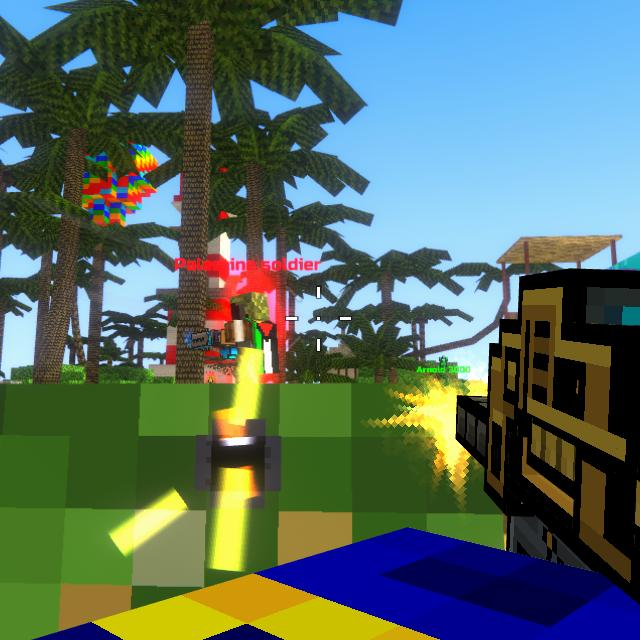Enemy: (225, 294, 276, 361)
